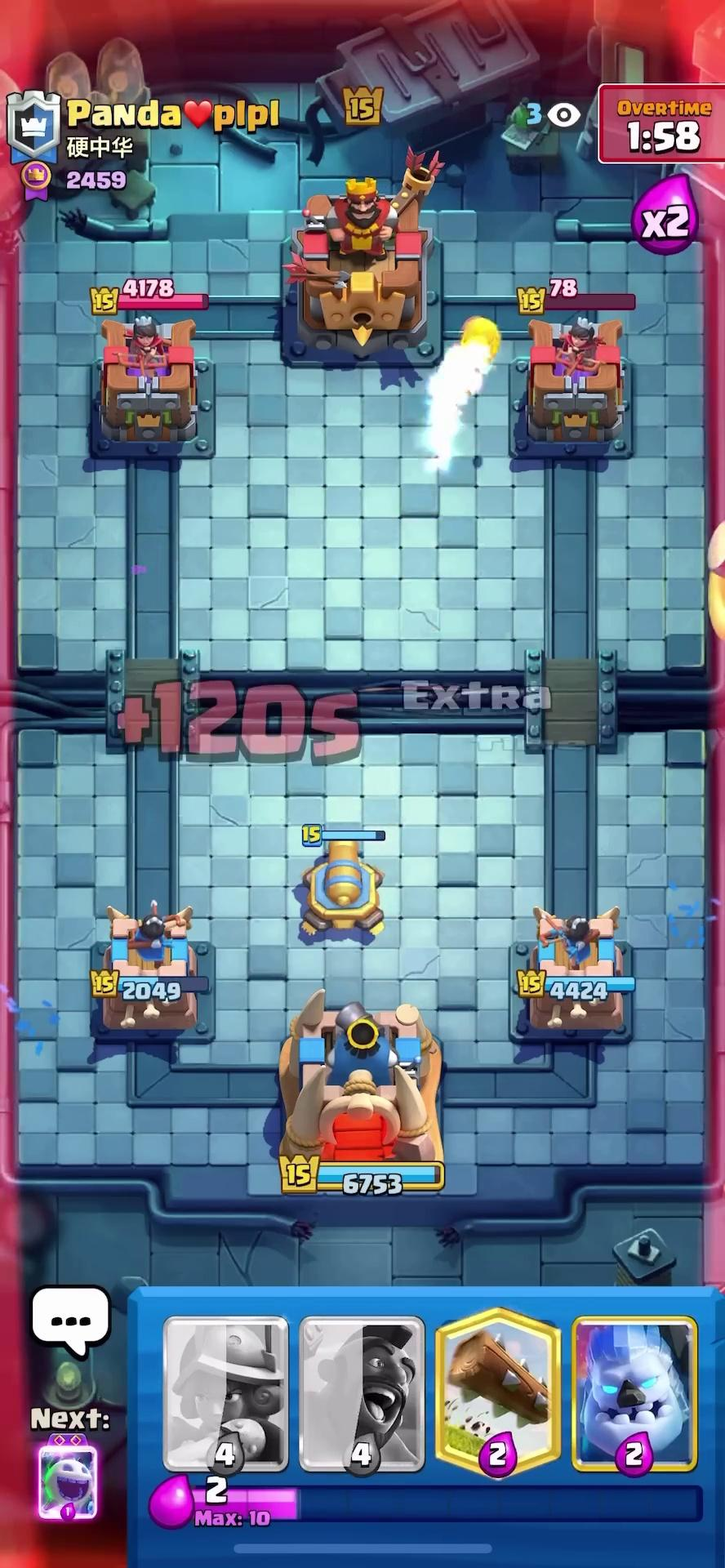fireball: (455, 298, 504, 368)
